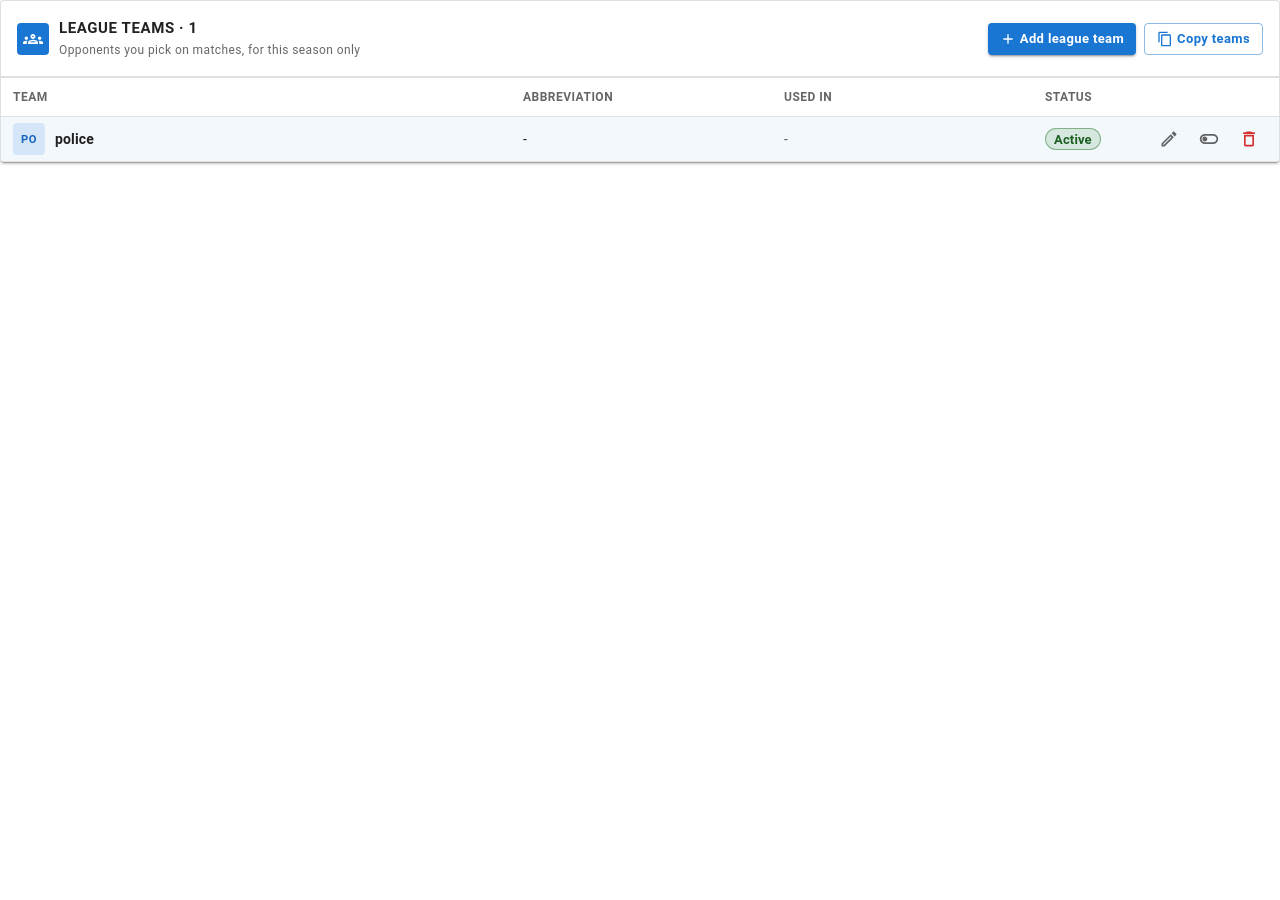
Test: LeagueTeamsSection › copy dialog › disables confirm at zero ticked and sends only ticked ids on confirm, then reports the result
Click the button with aria-label "Copy teams from another league or season": (1204, 39) [1144,23,1263,55]
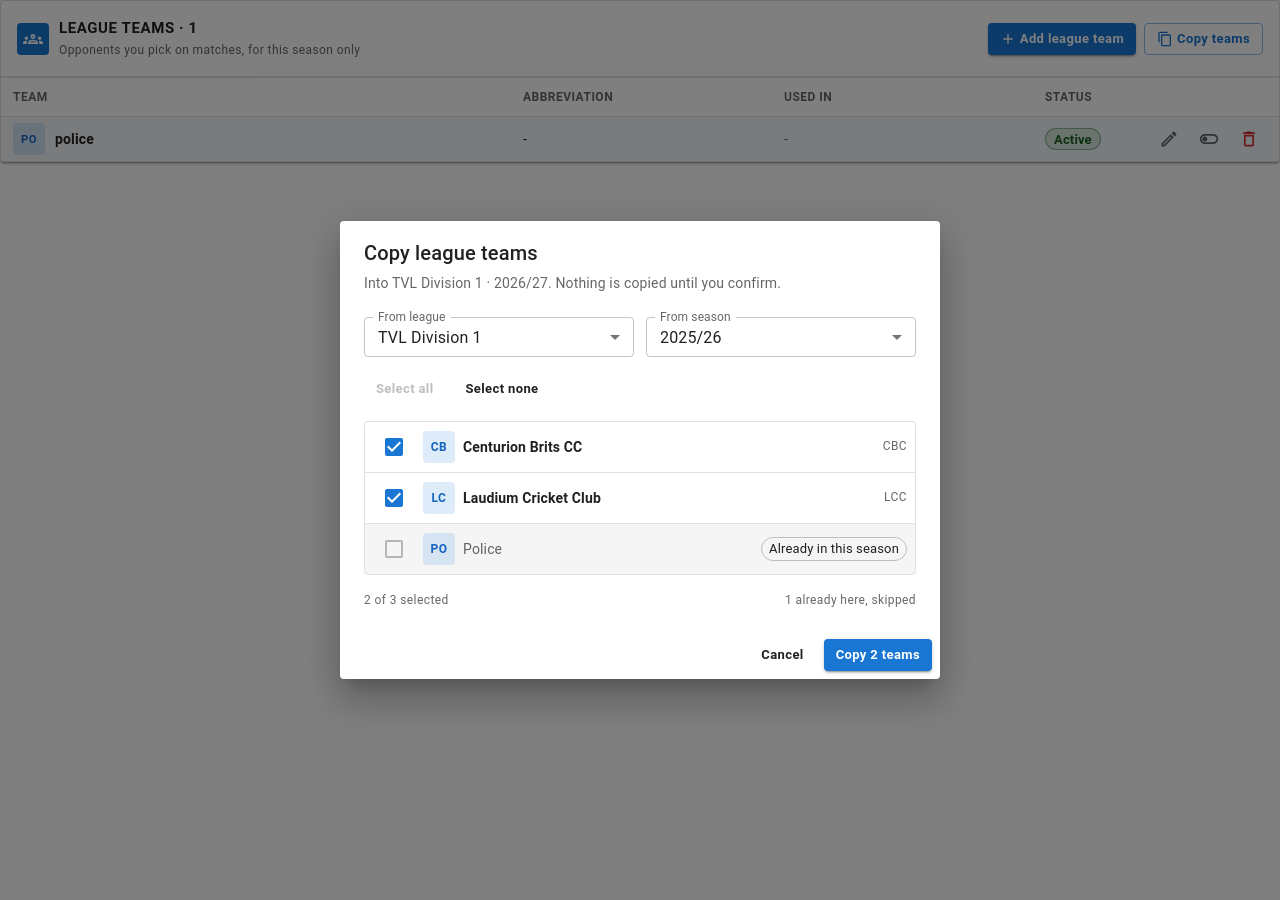
Click the button "Select none": (502, 389) [454,373,550,405]
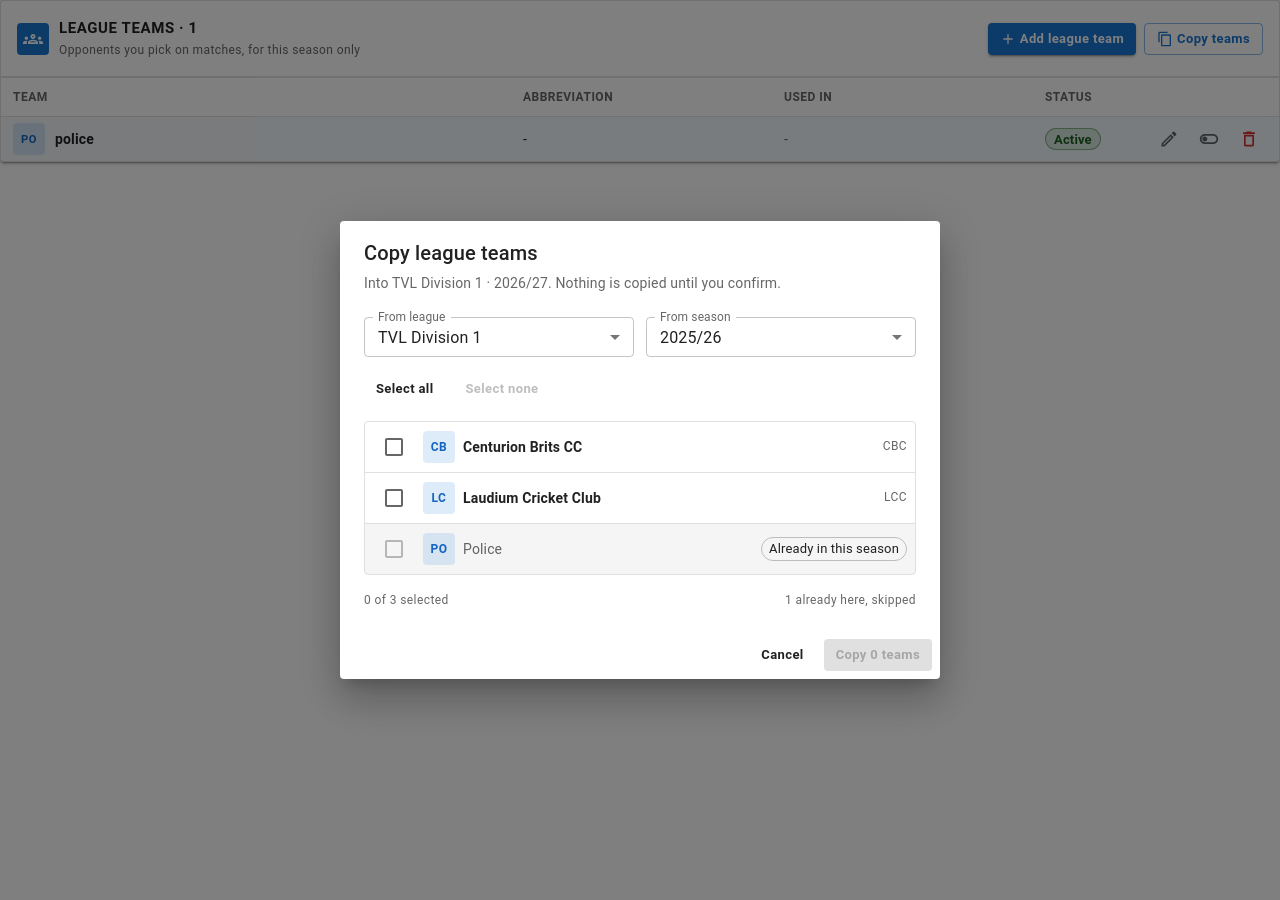
Check: the button "Copy 0 teams" is disabled, box [824,639,932,671]
Click the checkbox named "Laudium Cricket Club": (394, 498) [382,486,406,510]
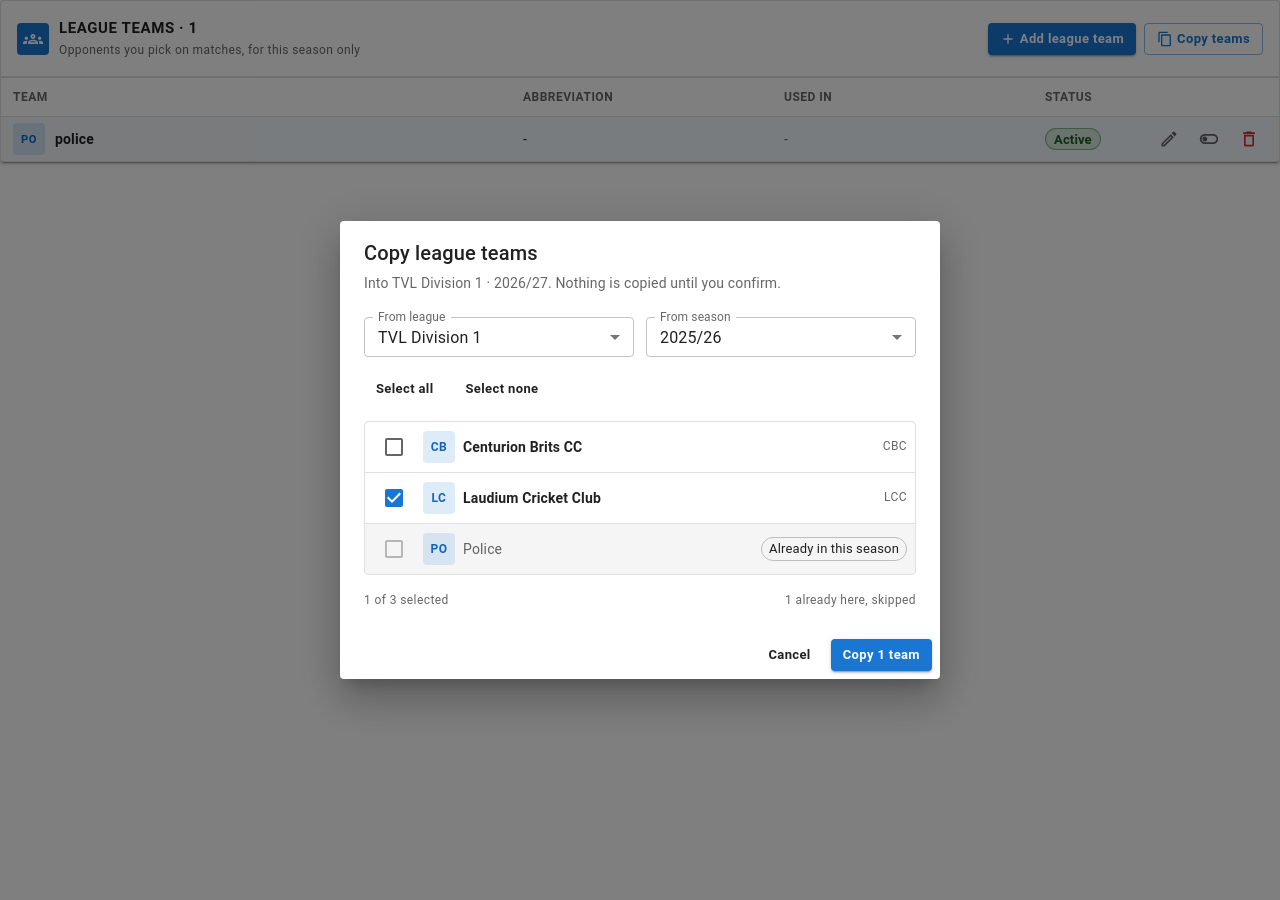
Click the button "Copy 1 team": (881, 655) [831,639,932,671]
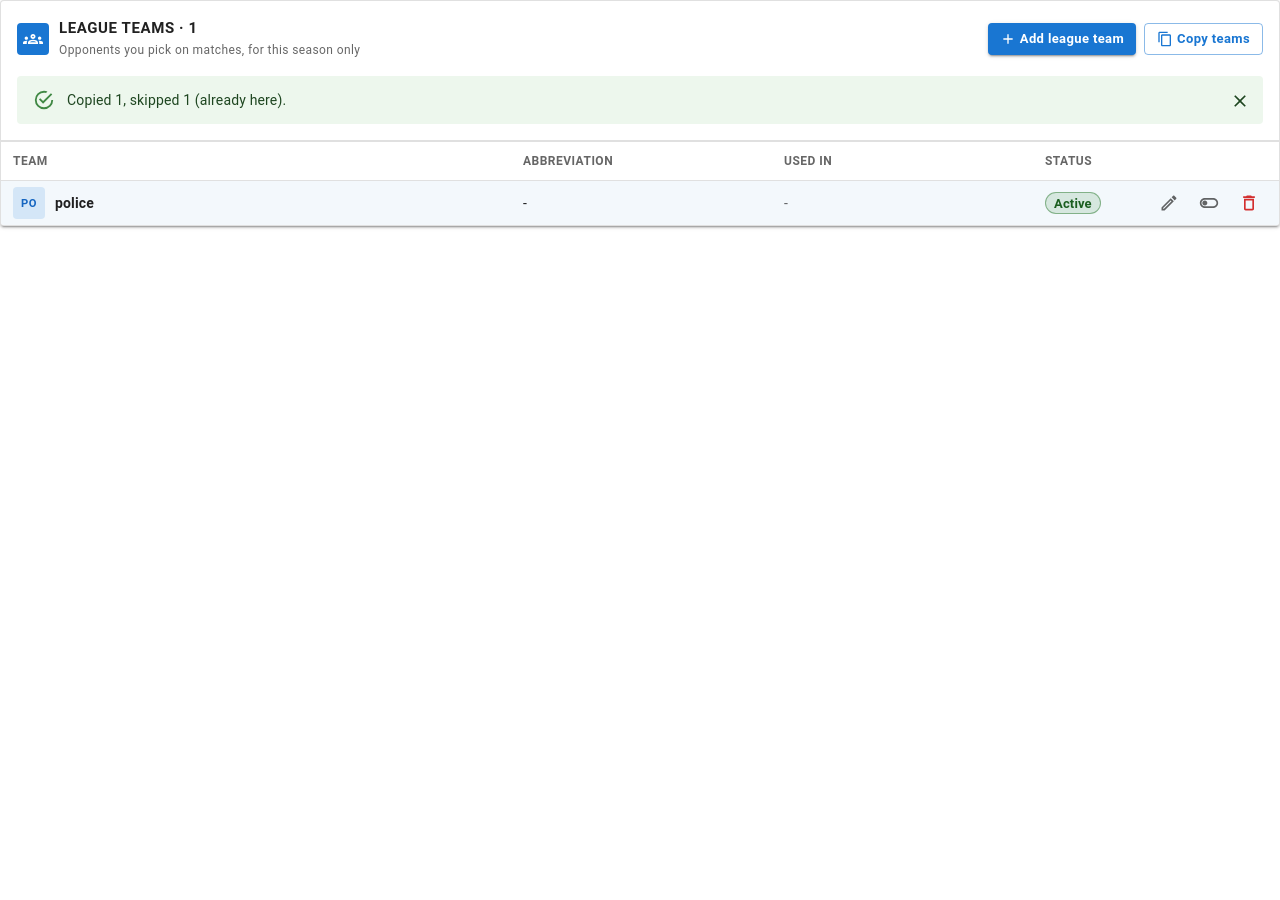
Check: the text "Copied 1, skipped 1 (already here)." is shown, box [67,92,286,108]
